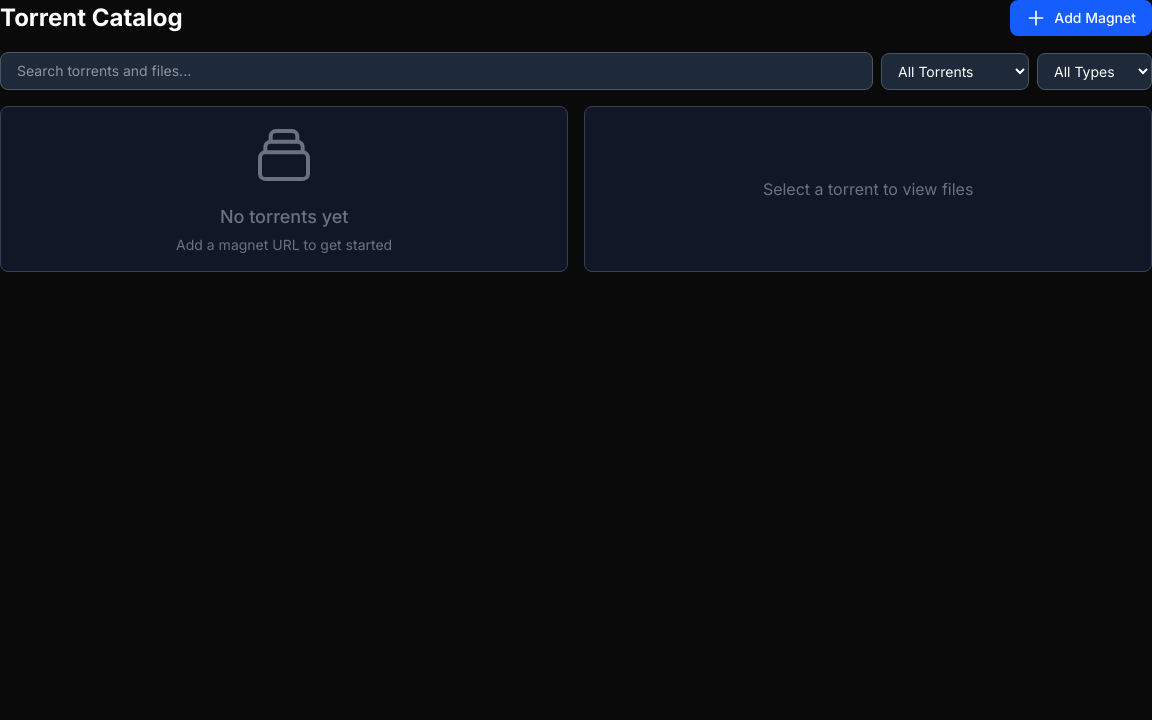
Test: Torrent Catalog › TorrentCatalog › should open add magnet modal when button clicked
The width and height of the screenshot is (1152, 720).
Click the button "Add Magnet": (1081, 18) [1010,0,1151,36]
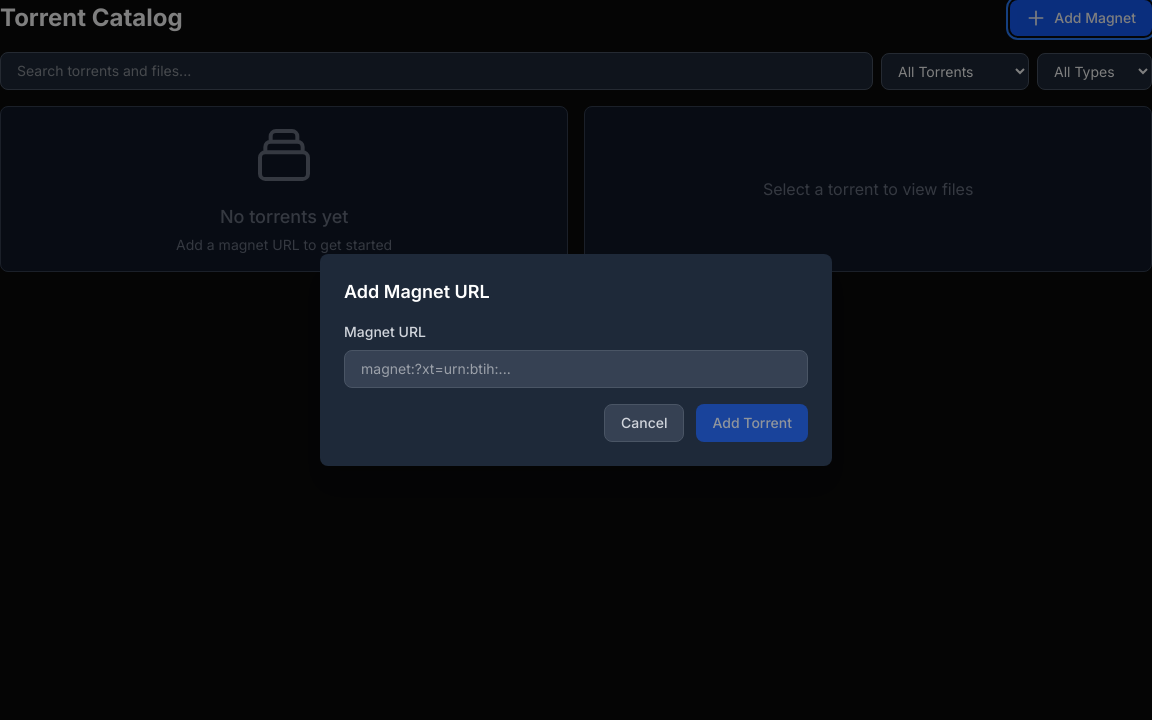
Check: the element with test id "add-magnet-modal" is shown, box [320,254,832,466]
